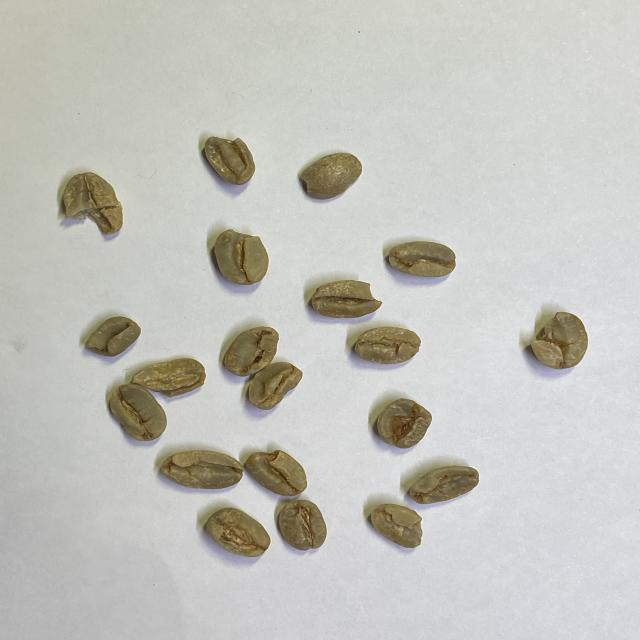bad: (59, 169, 127, 243), (156, 447, 248, 493), (209, 225, 272, 290), (527, 308, 590, 373), (295, 148, 364, 204), (201, 506, 272, 560), (129, 356, 207, 404), (107, 382, 167, 444), (370, 396, 435, 450), (307, 278, 384, 323), (218, 324, 282, 378), (240, 449, 310, 498), (198, 132, 260, 187), (406, 464, 482, 507), (244, 359, 304, 412), (350, 324, 424, 366), (275, 498, 330, 554), (385, 237, 458, 279), (81, 314, 143, 360), (368, 501, 426, 549)
